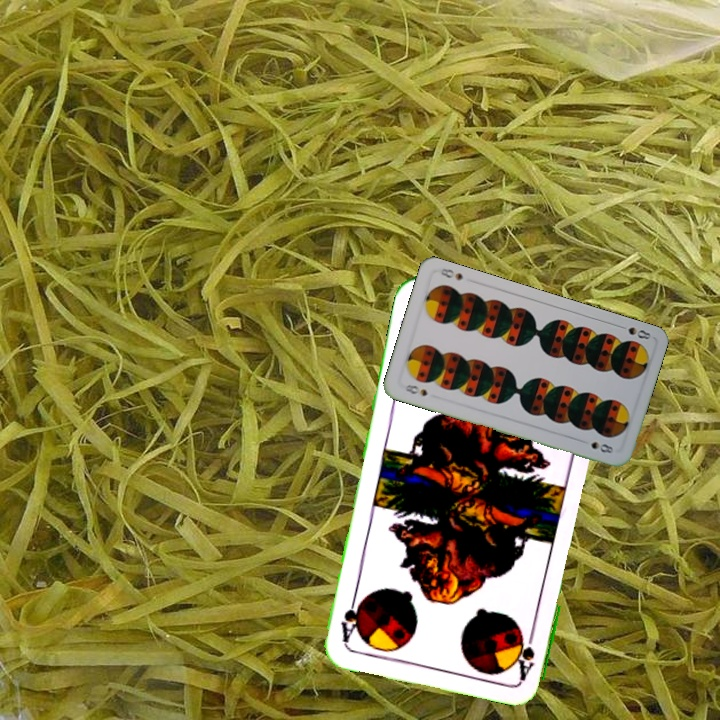S8: (614, 321, 653, 342), (399, 380, 430, 399)
SA: (514, 622, 538, 681)
